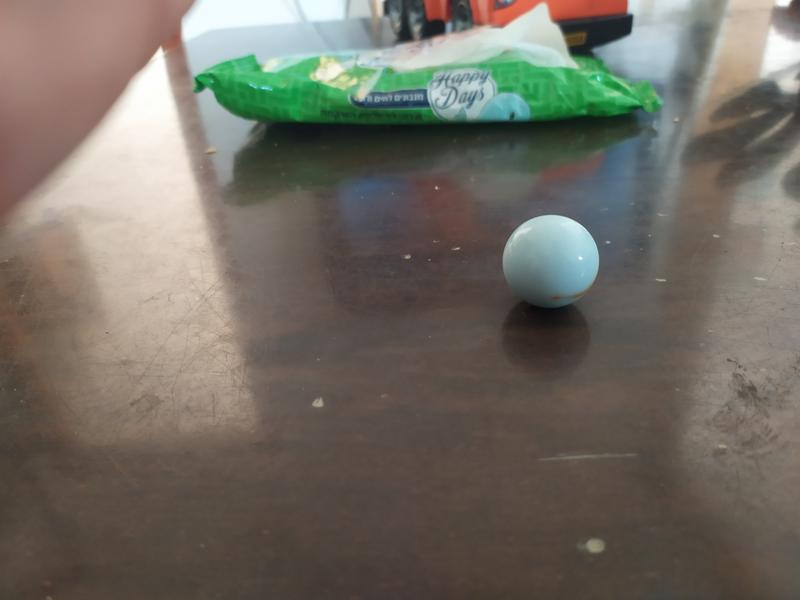Warning: (498, 210, 603, 312)
